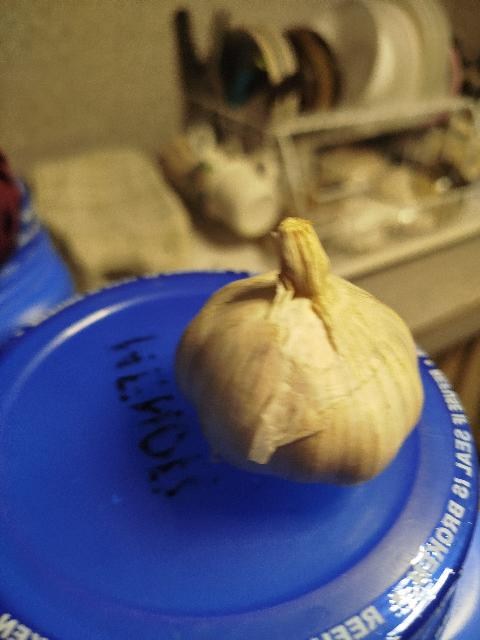garlic: (175, 216, 425, 486)
